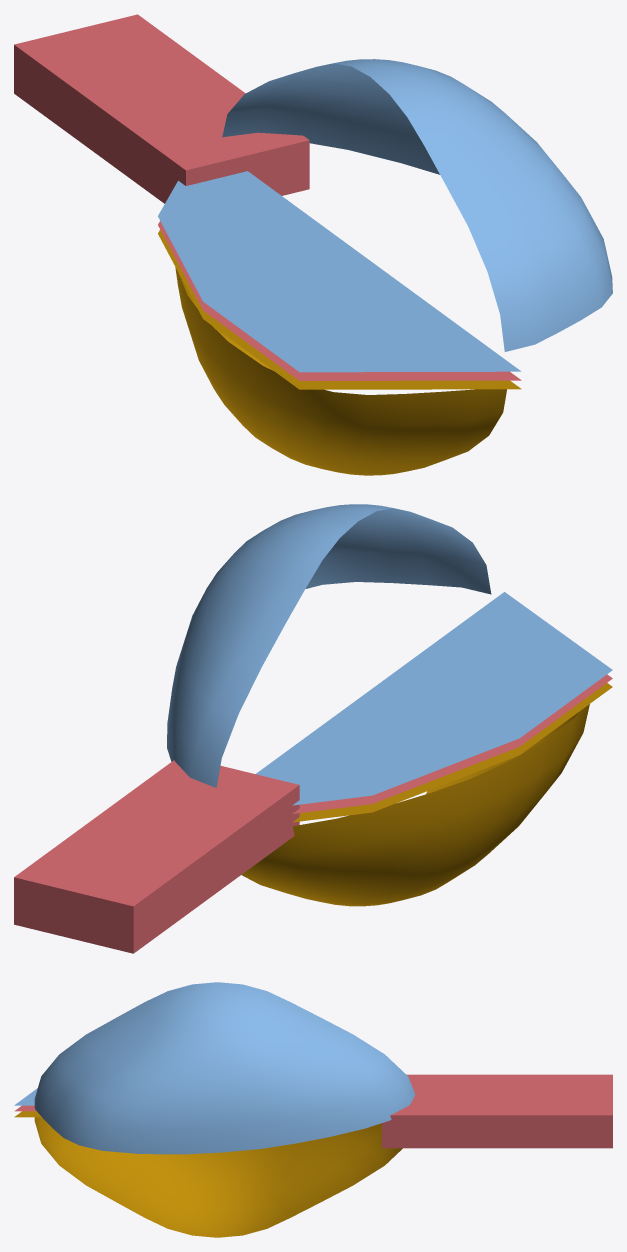
Rendered from trilaminar disc.glb.
The picture shows the model from 3 angles, top to bottom: view 1: azimuth 30°, elevation 25°; view 2: azimuth 150°, elevation 25°; view 3: azimuth 270°, elevation 25°; orthographic projection. The views are drawn at different scales.
Visible parts, largest first — view 1: 4 yolk sac, 1 ectoderm, Cube, 0 Amniotic cavity, 3 endoderm, 2 mesoderm(intra); view 2: 1 ectoderm, 4 yolk sac, Cube, 0 Amniotic cavity, 2 mesoderm(intra), 3 endoderm; view 3: 4 yolk sac, 0 Amniotic cavity, Cube.
Boxes of the visible parts, x1,y1,x2,y2 form: 4 yolk sac: (222,59,612,351); 1 ectoderm: (158,171,521,372); Cube: (14,14,309,203); 0 Amniotic cavity: (175,267,506,475); 3 endoderm: (158,230,521,389); 2 mesoderm(intra): (158,221,521,380); 1 ectoderm: (255,592,612,805); 4 yolk sac: (167,504,491,787); Cube: (14,760,299,953); 0 Amniotic cavity: (241,704,589,906); 2 mesoderm(intra): (292,674,612,813); 3 endoderm: (293,683,612,822); 4 yolk sac: (34,982,415,1154); 0 Amniotic cavity: (34,1117,402,1237); Cube: (382,1074,612,1148).
Bounding box in the file's own units: 2 × 2.17 × 4.62.
